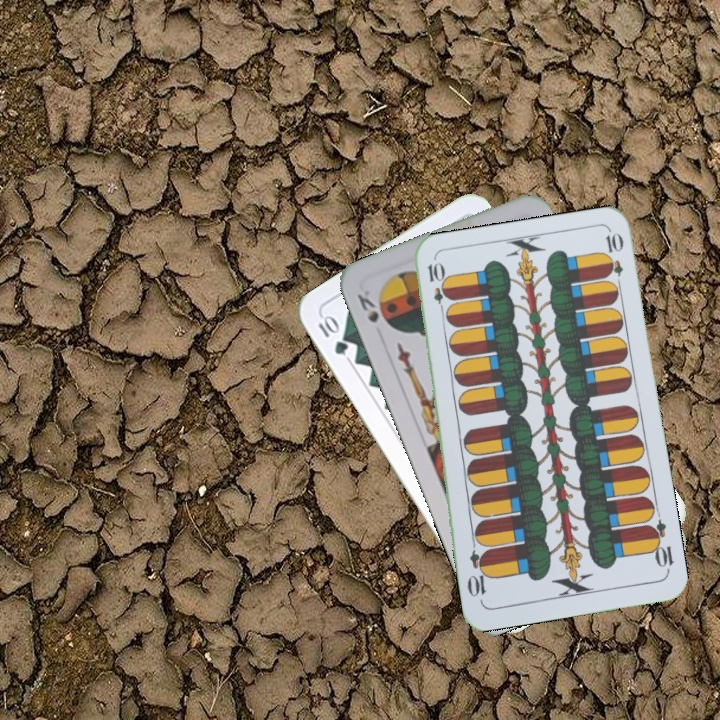E10: (644, 516, 676, 575), (423, 258, 449, 318)
G10: (314, 311, 351, 358)
SK: (353, 289, 382, 326)
